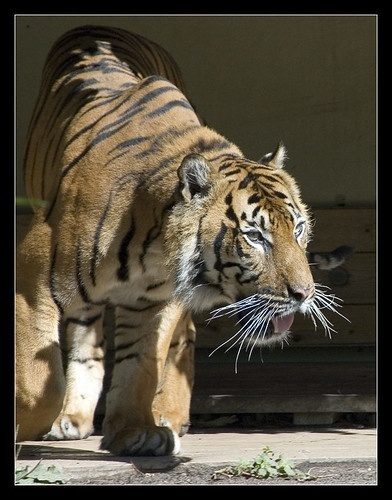tigre: (15, 19, 327, 460)
